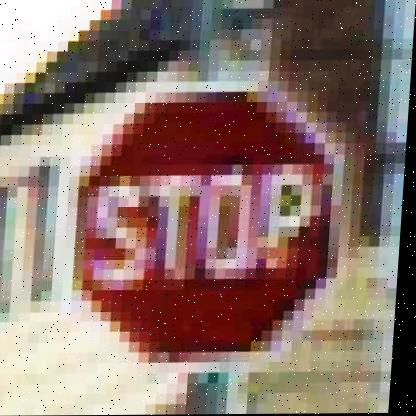Stop Sign: (53, 78, 365, 371)
